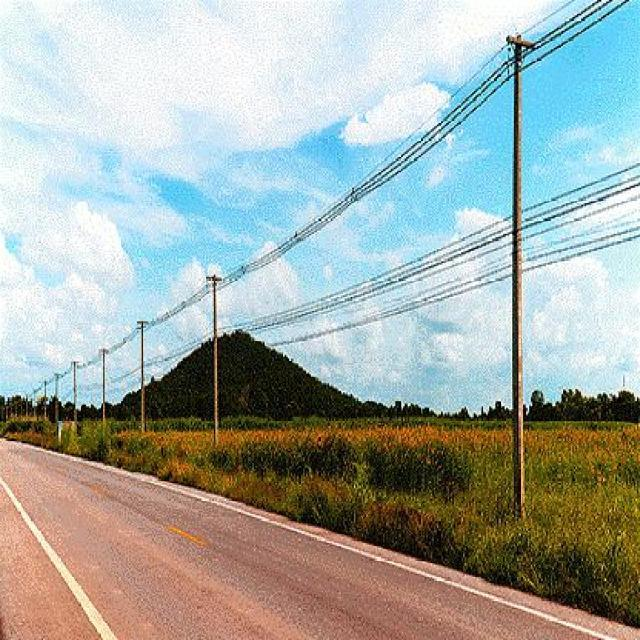light_pole: (479, 25, 553, 517), (199, 263, 239, 432)
